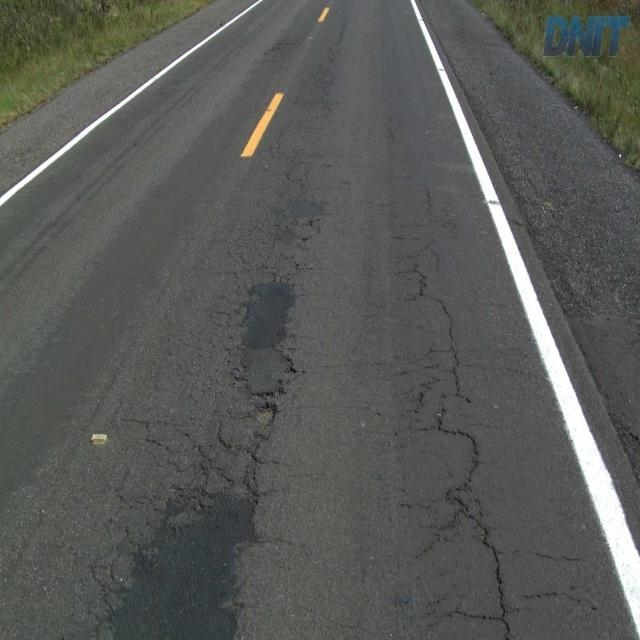pothole: (248, 400, 280, 428)
